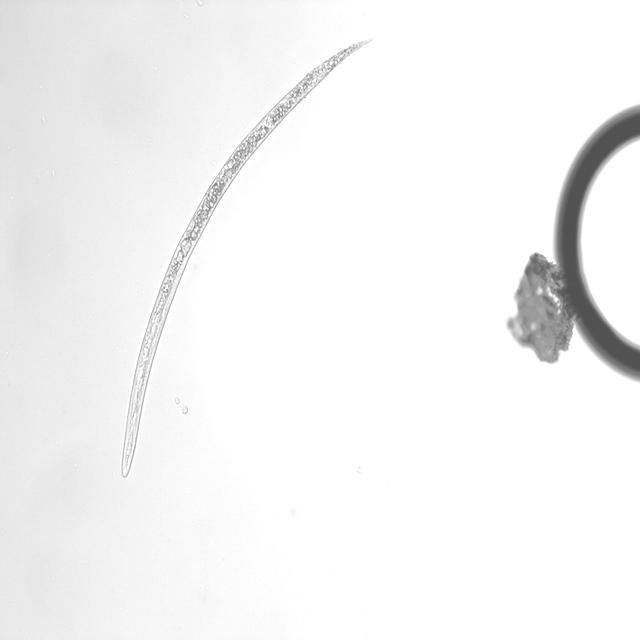Meloidogyne: (116, 32, 380, 484)
